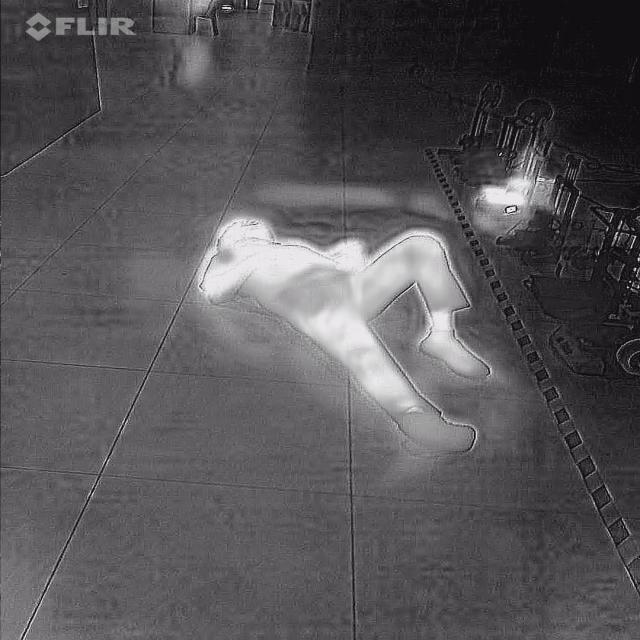Victim: (193, 211, 502, 458)
